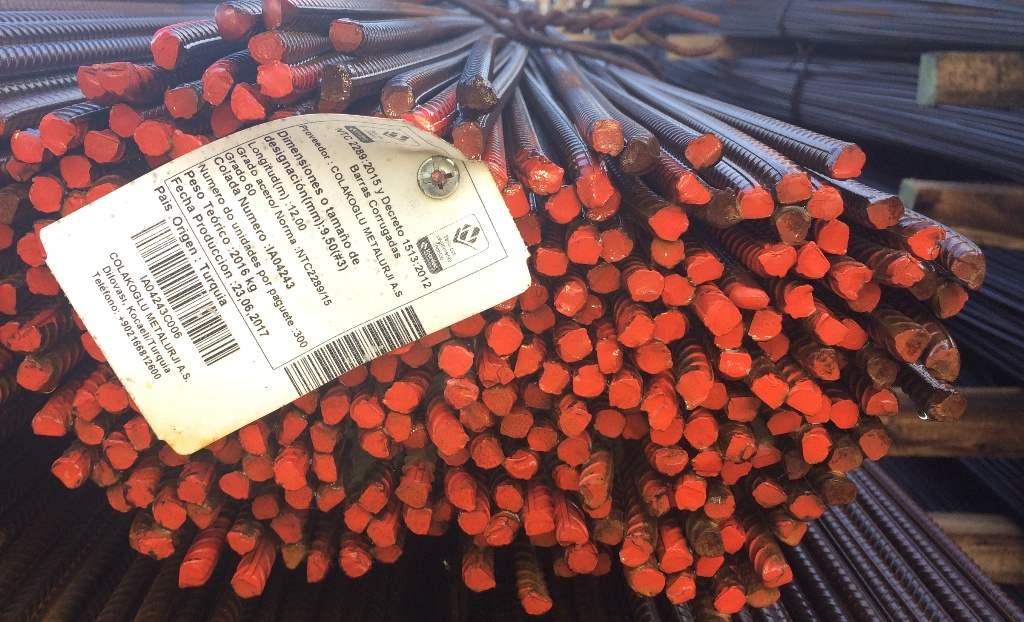dipstick: (621, 138, 660, 175), (39, 115, 74, 155), (650, 207, 690, 240), (868, 196, 907, 229), (950, 253, 985, 289), (908, 226, 945, 260), (548, 186, 580, 225), (460, 79, 497, 112), (215, 5, 250, 39), (259, 63, 294, 97), (776, 209, 809, 245), (837, 264, 870, 300), (677, 373, 711, 407), (831, 146, 866, 179), (531, 159, 563, 195), (808, 188, 844, 220), (927, 346, 959, 382), (796, 243, 829, 277), (777, 171, 811, 204), (687, 134, 721, 167), (936, 282, 968, 317), (628, 270, 664, 301), (708, 189, 738, 226), (928, 392, 965, 422), (329, 20, 362, 53), (232, 86, 266, 118), (895, 329, 927, 363), (592, 120, 623, 155), (601, 230, 634, 262), (653, 310, 686, 342), (30, 177, 61, 211), (439, 346, 473, 377), (577, 174, 611, 205), (818, 221, 849, 255), (760, 246, 795, 276), (96, 64, 132, 93), (204, 68, 232, 105), (136, 123, 168, 155), (489, 323, 521, 355), (560, 329, 592, 361), (588, 264, 621, 295), (322, 66, 352, 100), (84, 131, 118, 161), (454, 124, 483, 159), (637, 345, 673, 373), (704, 305, 741, 332), (755, 376, 786, 408), (17, 357, 50, 387), (164, 89, 198, 118), (650, 240, 685, 268), (685, 418, 716, 449), (789, 382, 820, 413), (572, 366, 604, 396), (500, 409, 533, 438), (740, 191, 774, 219), (790, 493, 825, 520), (60, 157, 90, 188), (621, 317, 652, 347), (250, 33, 282, 62), (435, 425, 467, 454), (862, 429, 891, 461), (17, 233, 45, 266), (647, 395, 675, 428), (749, 311, 782, 339), (689, 257, 723, 284), (152, 34, 177, 70), (384, 86, 414, 116), (676, 482, 706, 512), (679, 174, 709, 204), (109, 104, 138, 135), (12, 132, 43, 161), (97, 384, 128, 413), (501, 186, 530, 217), (507, 452, 538, 481), (536, 248, 567, 277), (655, 448, 687, 476), (240, 423, 267, 456), (568, 237, 601, 264), (788, 285, 815, 318), (596, 340, 622, 374), (730, 287, 770, 309), (352, 400, 382, 429), (539, 363, 569, 392), (561, 408, 591, 437), (213, 105, 241, 136), (609, 380, 640, 408), (714, 585, 745, 613), (27, 267, 59, 294), (383, 389, 419, 413), (588, 193, 620, 220), (522, 305, 554, 332), (558, 438, 590, 465), (633, 569, 665, 596), (172, 131, 205, 157), (153, 503, 186, 529), (479, 362, 512, 388), (891, 256, 920, 285), (272, 516, 303, 543), (514, 346, 541, 377), (664, 275, 691, 306), (77, 67, 103, 99), (557, 284, 583, 316), (690, 452, 722, 478), (723, 436, 755, 462), (754, 483, 786, 509), (399, 342, 432, 367), (620, 541, 653, 566), (279, 418, 308, 446), (595, 410, 624, 438), (830, 400, 858, 429), (473, 440, 503, 467), (868, 357, 898, 384), (818, 315, 845, 345), (105, 443, 136, 469), (729, 395, 760, 421), (275, 464, 307, 489), (768, 411, 801, 435), (516, 217, 543, 246), (464, 566, 495, 591), (484, 391, 515, 416), (829, 448, 861, 472), (321, 397, 348, 425), (667, 579, 695, 606), (53, 463, 83, 488), (243, 456, 273, 481), (341, 552, 371, 577), (652, 420, 682, 445), (864, 392, 898, 414), (221, 472, 248, 499), (462, 405, 489, 432), (826, 480, 855, 505), (138, 535, 176, 554), (592, 520, 622, 544), (705, 495, 735, 519), (662, 550, 693, 573), (496, 486, 523, 512), (126, 423, 151, 451), (405, 507, 430, 535), (852, 287, 880, 312), (525, 511, 554, 535), (694, 532, 723, 556), (759, 337, 788, 361), (803, 434, 827, 463), (447, 384, 477, 407), (721, 462, 751, 485), (720, 352, 750, 375), (309, 427, 335, 453), (177, 480, 205, 504), (313, 454, 337, 482), (385, 413, 409, 441), (624, 412, 648, 440), (75, 422, 104, 445), (346, 505, 369, 534), (816, 349, 838, 379), (453, 316, 484, 337), (782, 520, 807, 546), (371, 355, 395, 382), (525, 385, 552, 409), (316, 488, 344, 511), (721, 526, 744, 554), (33, 417, 65, 437), (395, 487, 427, 507), (10, 328, 39, 350), (529, 428, 558, 450), (6, 159, 36, 180), (370, 521, 395, 546), (554, 466, 580, 490), (362, 434, 389, 457), (913, 271, 936, 298), (582, 294, 602, 325), (126, 485, 154, 507), (251, 496, 279, 518), (339, 365, 367, 387), (160, 445, 189, 466), (231, 577, 260, 598), (458, 513, 487, 534), (650, 490, 670, 520), (716, 323, 741, 347), (93, 462, 119, 485), (229, 531, 255, 554), (285, 487, 311, 510), (754, 446, 780, 469), (746, 589, 779, 607), (785, 452, 807, 479), (262, 1, 282, 30), (73, 398, 99, 420), (361, 487, 383, 513), (521, 287, 547, 309), (845, 320, 865, 348), (1, 192, 19, 223), (217, 441, 240, 465), (704, 384, 727, 408), (282, 545, 304, 570), (558, 525, 586, 544), (452, 488, 475, 511), (1, 284, 18, 315), (372, 546, 403, 563), (307, 554, 325, 583), (487, 526, 513, 546), (570, 552, 596, 572), (765, 567, 792, 586), (294, 392, 316, 415), (179, 566, 204, 586), (696, 555, 721, 575), (812, 396, 829, 425), (582, 484, 605, 505), (108, 488, 128, 512), (63, 193, 84, 215), (407, 424, 425, 449), (587, 500, 612, 518), (440, 450, 468, 466), (523, 598, 551, 614), (431, 502, 453, 522), (1, 224, 14, 249), (1, 322, 16, 342), (529, 535, 556, 546), (596, 555, 611, 574), (554, 564, 573, 577)
